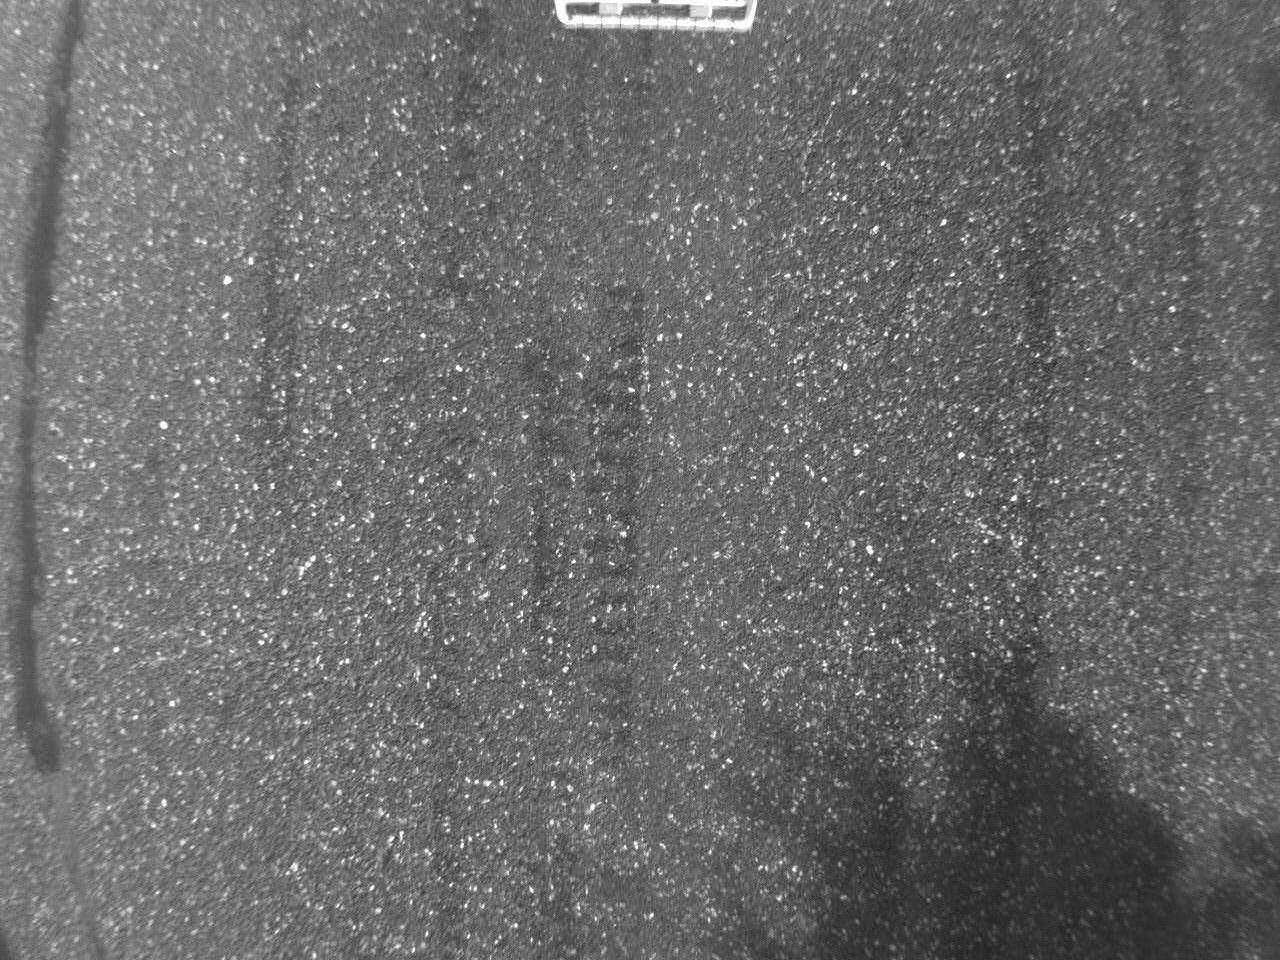sealed: (3, 1, 93, 800)
